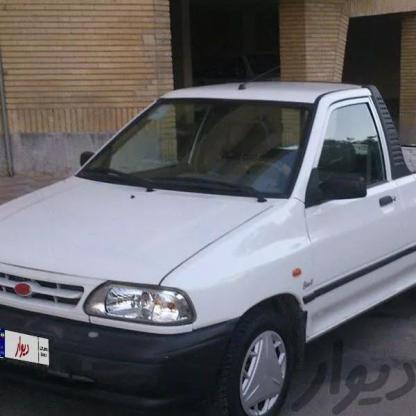Car: (0, 70, 416, 416)
